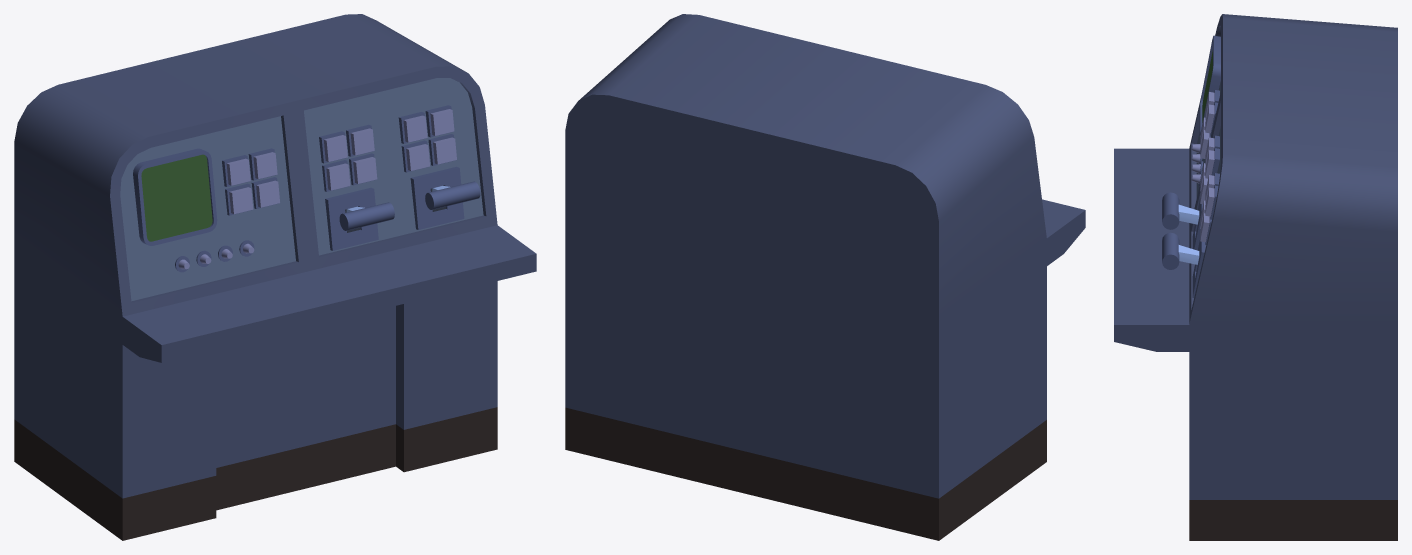
The model's file is TABLEAUSPE.fbx.
3 renders of one model, left to right at view 1: azimuth 30°, elevation 25°; view 2: azimuth 150°, elevation 25°; view 3: azimuth 270°, elevation 25°, orthographic. The views are drawn at different scales.
Parts seen in each view (by area): view 1: Cube.148, Cube.147, Cube.149, Cube.080, Cylinder.067, Cylinder.073, Cylinder.072, Cube.150, Cube.157, Cube.145, Cube.156, Cube.146 (+7 smaller); view 2: Cube.148; view 3: Cube.148, Cube.147, Cylinder.067, Cylinder.073, Cylinder.072, Cube.151.
Part boxes in pixels (box(x1,y1,x2,y2)): Cube.148: box(14, 14, 536, 540); Cube.147: box(133, 148, 217, 245); Cube.149: box(410, 166, 464, 229); Cube.080: box(325, 187, 378, 250); Cylinder.067: box(339, 202, 394, 230); Cylinder.073: box(425, 181, 480, 209); Cylinder.072: box(175, 240, 254, 272); Cube.150: box(319, 131, 347, 163); Cube.157: box(398, 112, 427, 143); Cube.145: box(248, 148, 277, 180); Cube.156: box(425, 105, 454, 137); Cube.146: box(222, 155, 250, 186); Cube.148: box(565, 14, 1085, 540); Cube.148: box(1114, 14, 1397, 540); Cube.147: box(1199, 35, 1220, 136); Cylinder.067: box(1162, 192, 1199, 229); Cylinder.073: box(1162, 232, 1199, 269); Cylinder.072: box(1191, 144, 1203, 186); Cube.151: box(1205, 148, 1219, 178).
Size of the model in its own units: 200 by 194 by 136.
